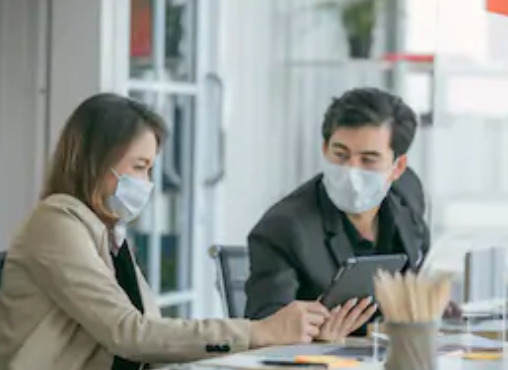Caution: (41, 87, 430, 347)
